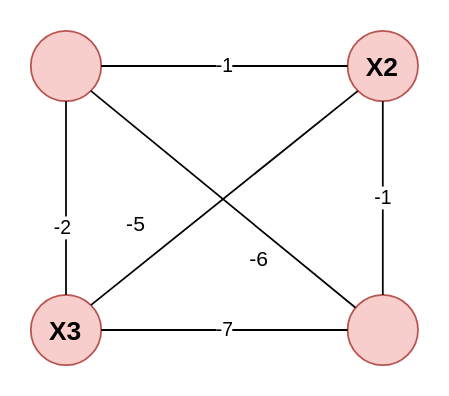
The diagram is 449 pixels wide and 396 high, and some of its shapes have lost their labels. The centre of each missing label's shape, as x and y in pixels:
"X1" goes at (65,65).
"X4" goes at (382,329).
